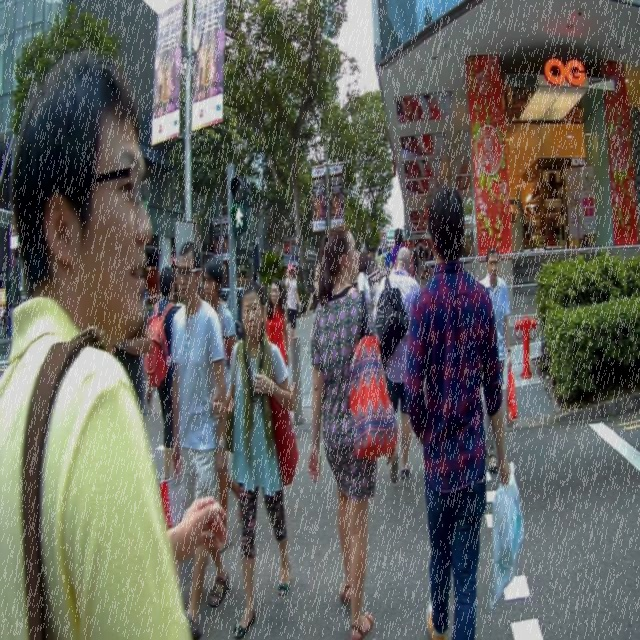pessoa: (0, 47, 228, 639), (404, 184, 511, 639), (208, 276, 302, 640), (306, 222, 384, 638), (170, 240, 230, 640), (392, 86, 467, 280), (202, 256, 240, 554), (373, 246, 420, 483), (477, 245, 513, 472), (146, 265, 183, 480), (111, 276, 152, 433), (262, 278, 290, 372), (284, 262, 304, 346), (514, 198, 542, 252), (0, 296, 27, 348), (357, 236, 392, 276), (230, 192, 248, 240), (306, 262, 322, 314), (389, 227, 406, 275), (358, 250, 372, 302), (418, 4, 436, 27)
